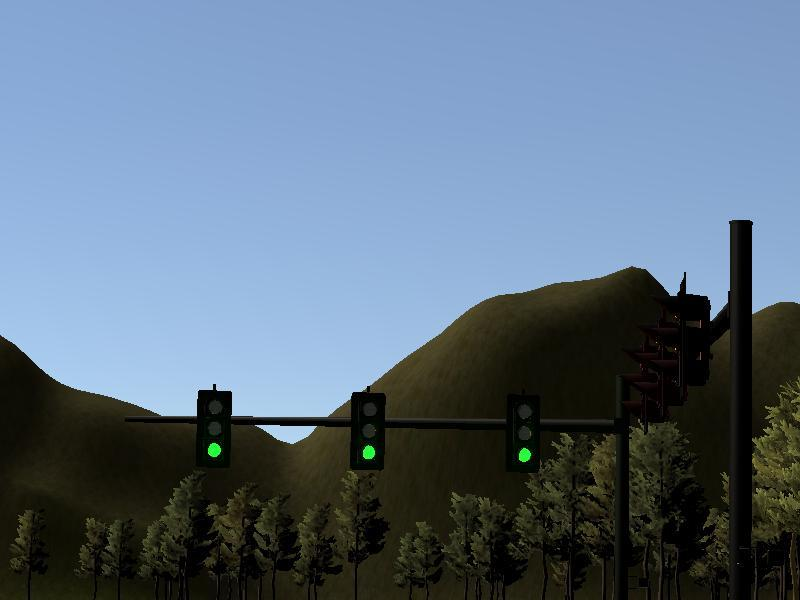Green: (505, 393, 541, 471), (196, 390, 231, 468), (350, 393, 384, 469)
